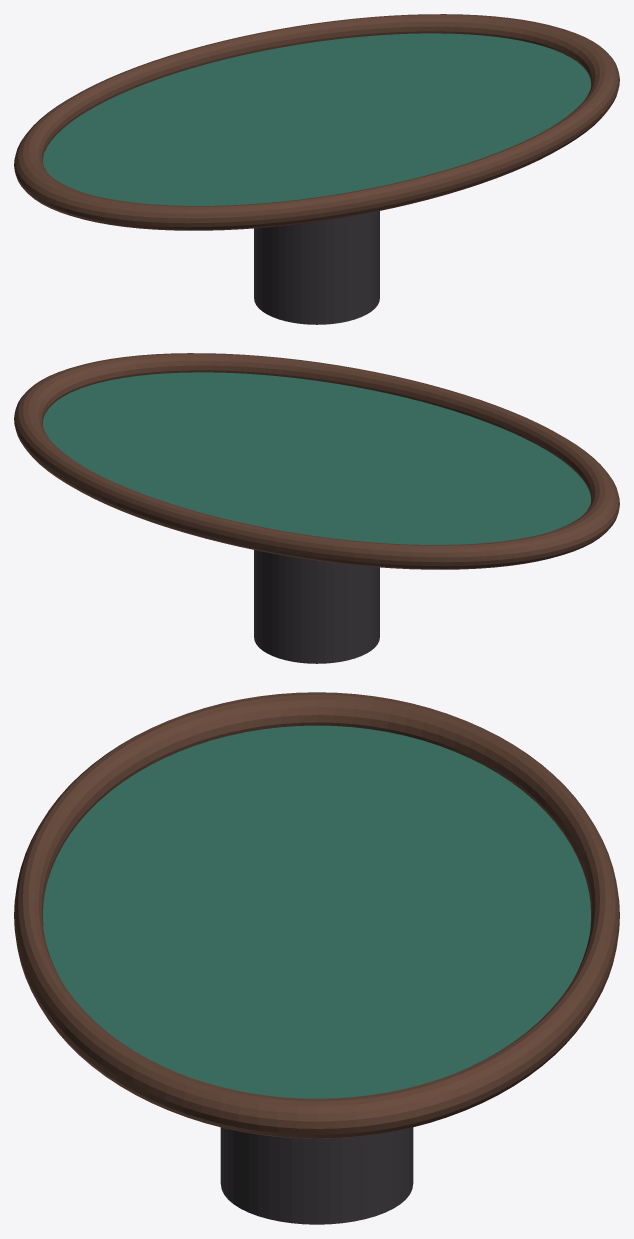
The model's file is table.glb.
3 renders of one model, top to bottom at view 1: azimuth 30°, elevation 25°; view 2: azimuth 150°, elevation 25°; view 3: azimuth 270°, elevation 25°, orthographic. The views are drawn at different scales.
Visible parts, largest first — view 1: table_0, table_1, table_2; view 2: table_0, table_1, table_2; view 3: table_0, table_1, table_2.
Part boxes in pixels (x1,y1,x2,y2): table_0: (43, 33, 590, 205); table_1: (14, 14, 619, 230); table_2: (254, 211, 379, 324); table_0: (43, 372, 590, 544); table_1: (14, 353, 619, 569); table_2: (254, 550, 379, 663); table_0: (43, 725, 590, 1098); table_1: (14, 692, 619, 1138); table_2: (220, 1127, 413, 1224).
Size of the model in its own units: 2.62 by 0.82 by 1.58.
